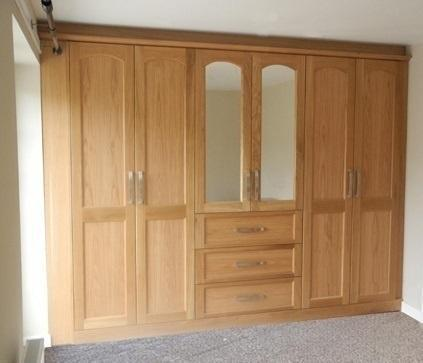Armario: (37, 21, 408, 327)
